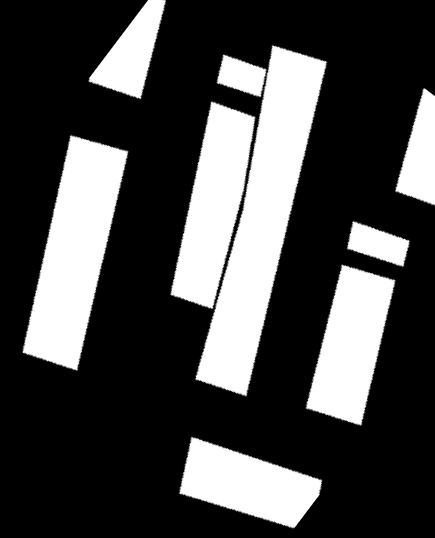parkingspot: (195, 46, 327, 396), (23, 135, 128, 370), (170, 102, 255, 309), (306, 265, 395, 425), (179, 437, 322, 528), (89, 0, 166, 99), (395, 88, 435, 205), (347, 221, 410, 267), (217, 55, 266, 97)
